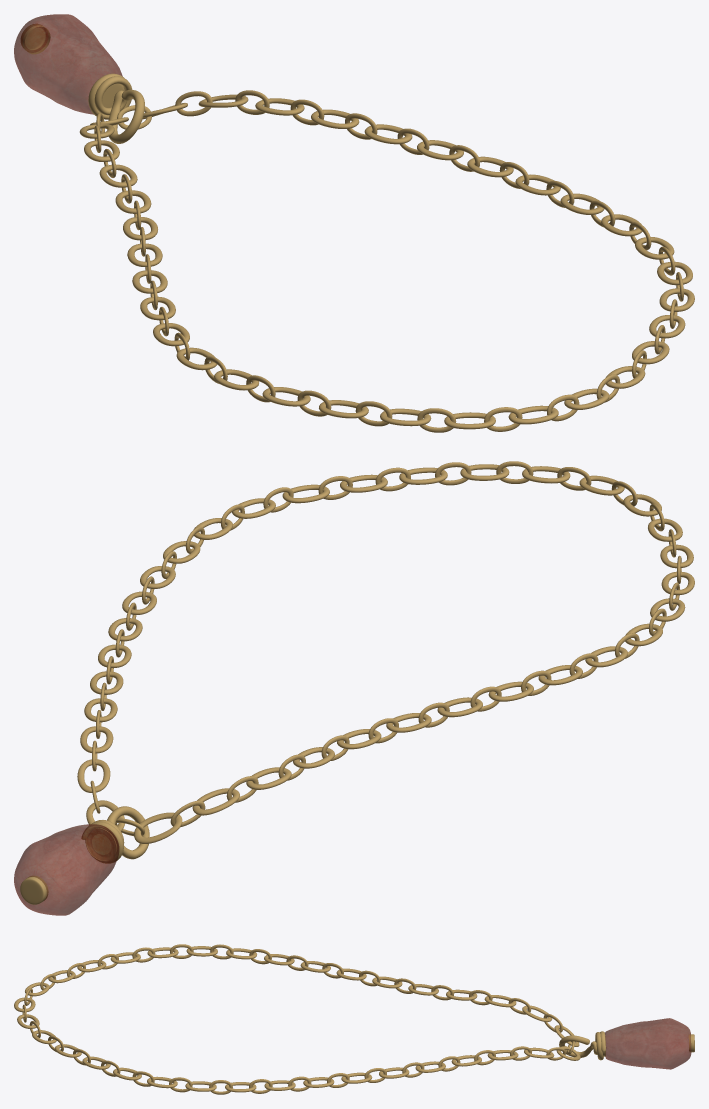
File: necklace.glb
The picture shows the model from 3 angles, top to bottom: view 1: azimuth 30°, elevation 25°; view 2: azimuth 150°, elevation 25°; view 3: azimuth 270°, elevation 25°; orthographic projection. The views are drawn at different scales.
Visible parts, largest first — view 1: 11777_necklace_v1_l3; view 2: 11777_necklace_v1_l3; view 3: 11777_necklace_v1_l3.
Boxes of the visible parts, <box> form: 11777_necklace_v1_l3: <box>14,14,694,432</box>; 11777_necklace_v1_l3: <box>14,461,694,915</box>; 11777_necklace_v1_l3: <box>14,944,694,1094</box>.
Bounding box in the file's own units: 6.44 × 1.14 × 12.84.
Materials: 2 (1 with a texture image).
